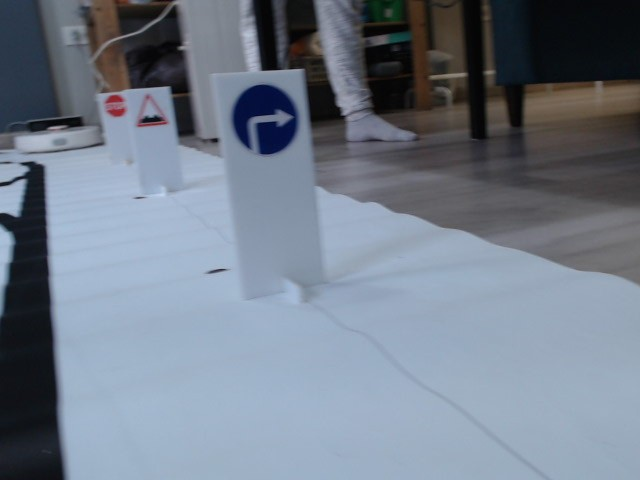Nerov: (135, 94, 170, 127)
Right: (231, 83, 299, 158)
